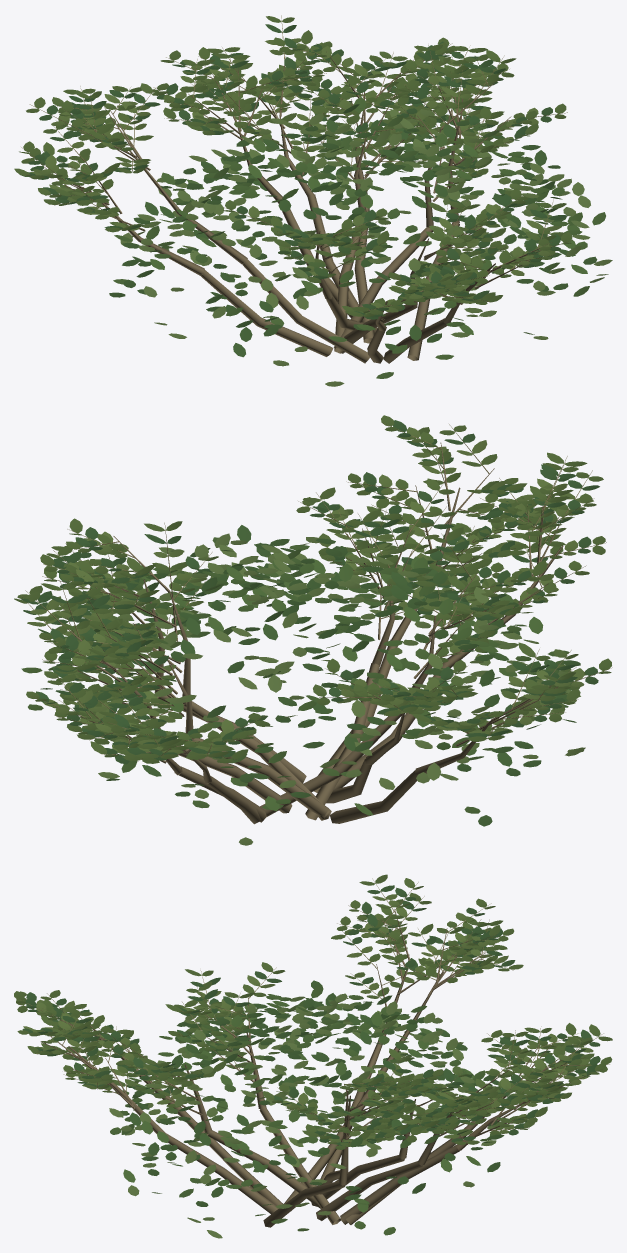
File: LentisqueRampant_0_High.fbx
3 views of the same model, one above another, from view 1: azimuth 30°, elevation 25°; view 2: azimuth 150°, elevation 25°; view 3: azimuth 270°, elevation 25° (orthographic). The views are drawn at different scales.
Visible parts, largest first — view 1: LentisqueRampant_0_High; view 2: LentisqueRampant_0_High; view 3: LentisqueRampant_0_High.
Part boxes in pixels (<box>): LentisqueRampant_0_High: <box>14,15,612,386</box>; LentisqueRampant_0_High: <box>14,415,612,845</box>; LentisqueRampant_0_High: <box>14,874,612,1238</box>.
Size of the model in its own units: 236 by 99.9 by 257.
